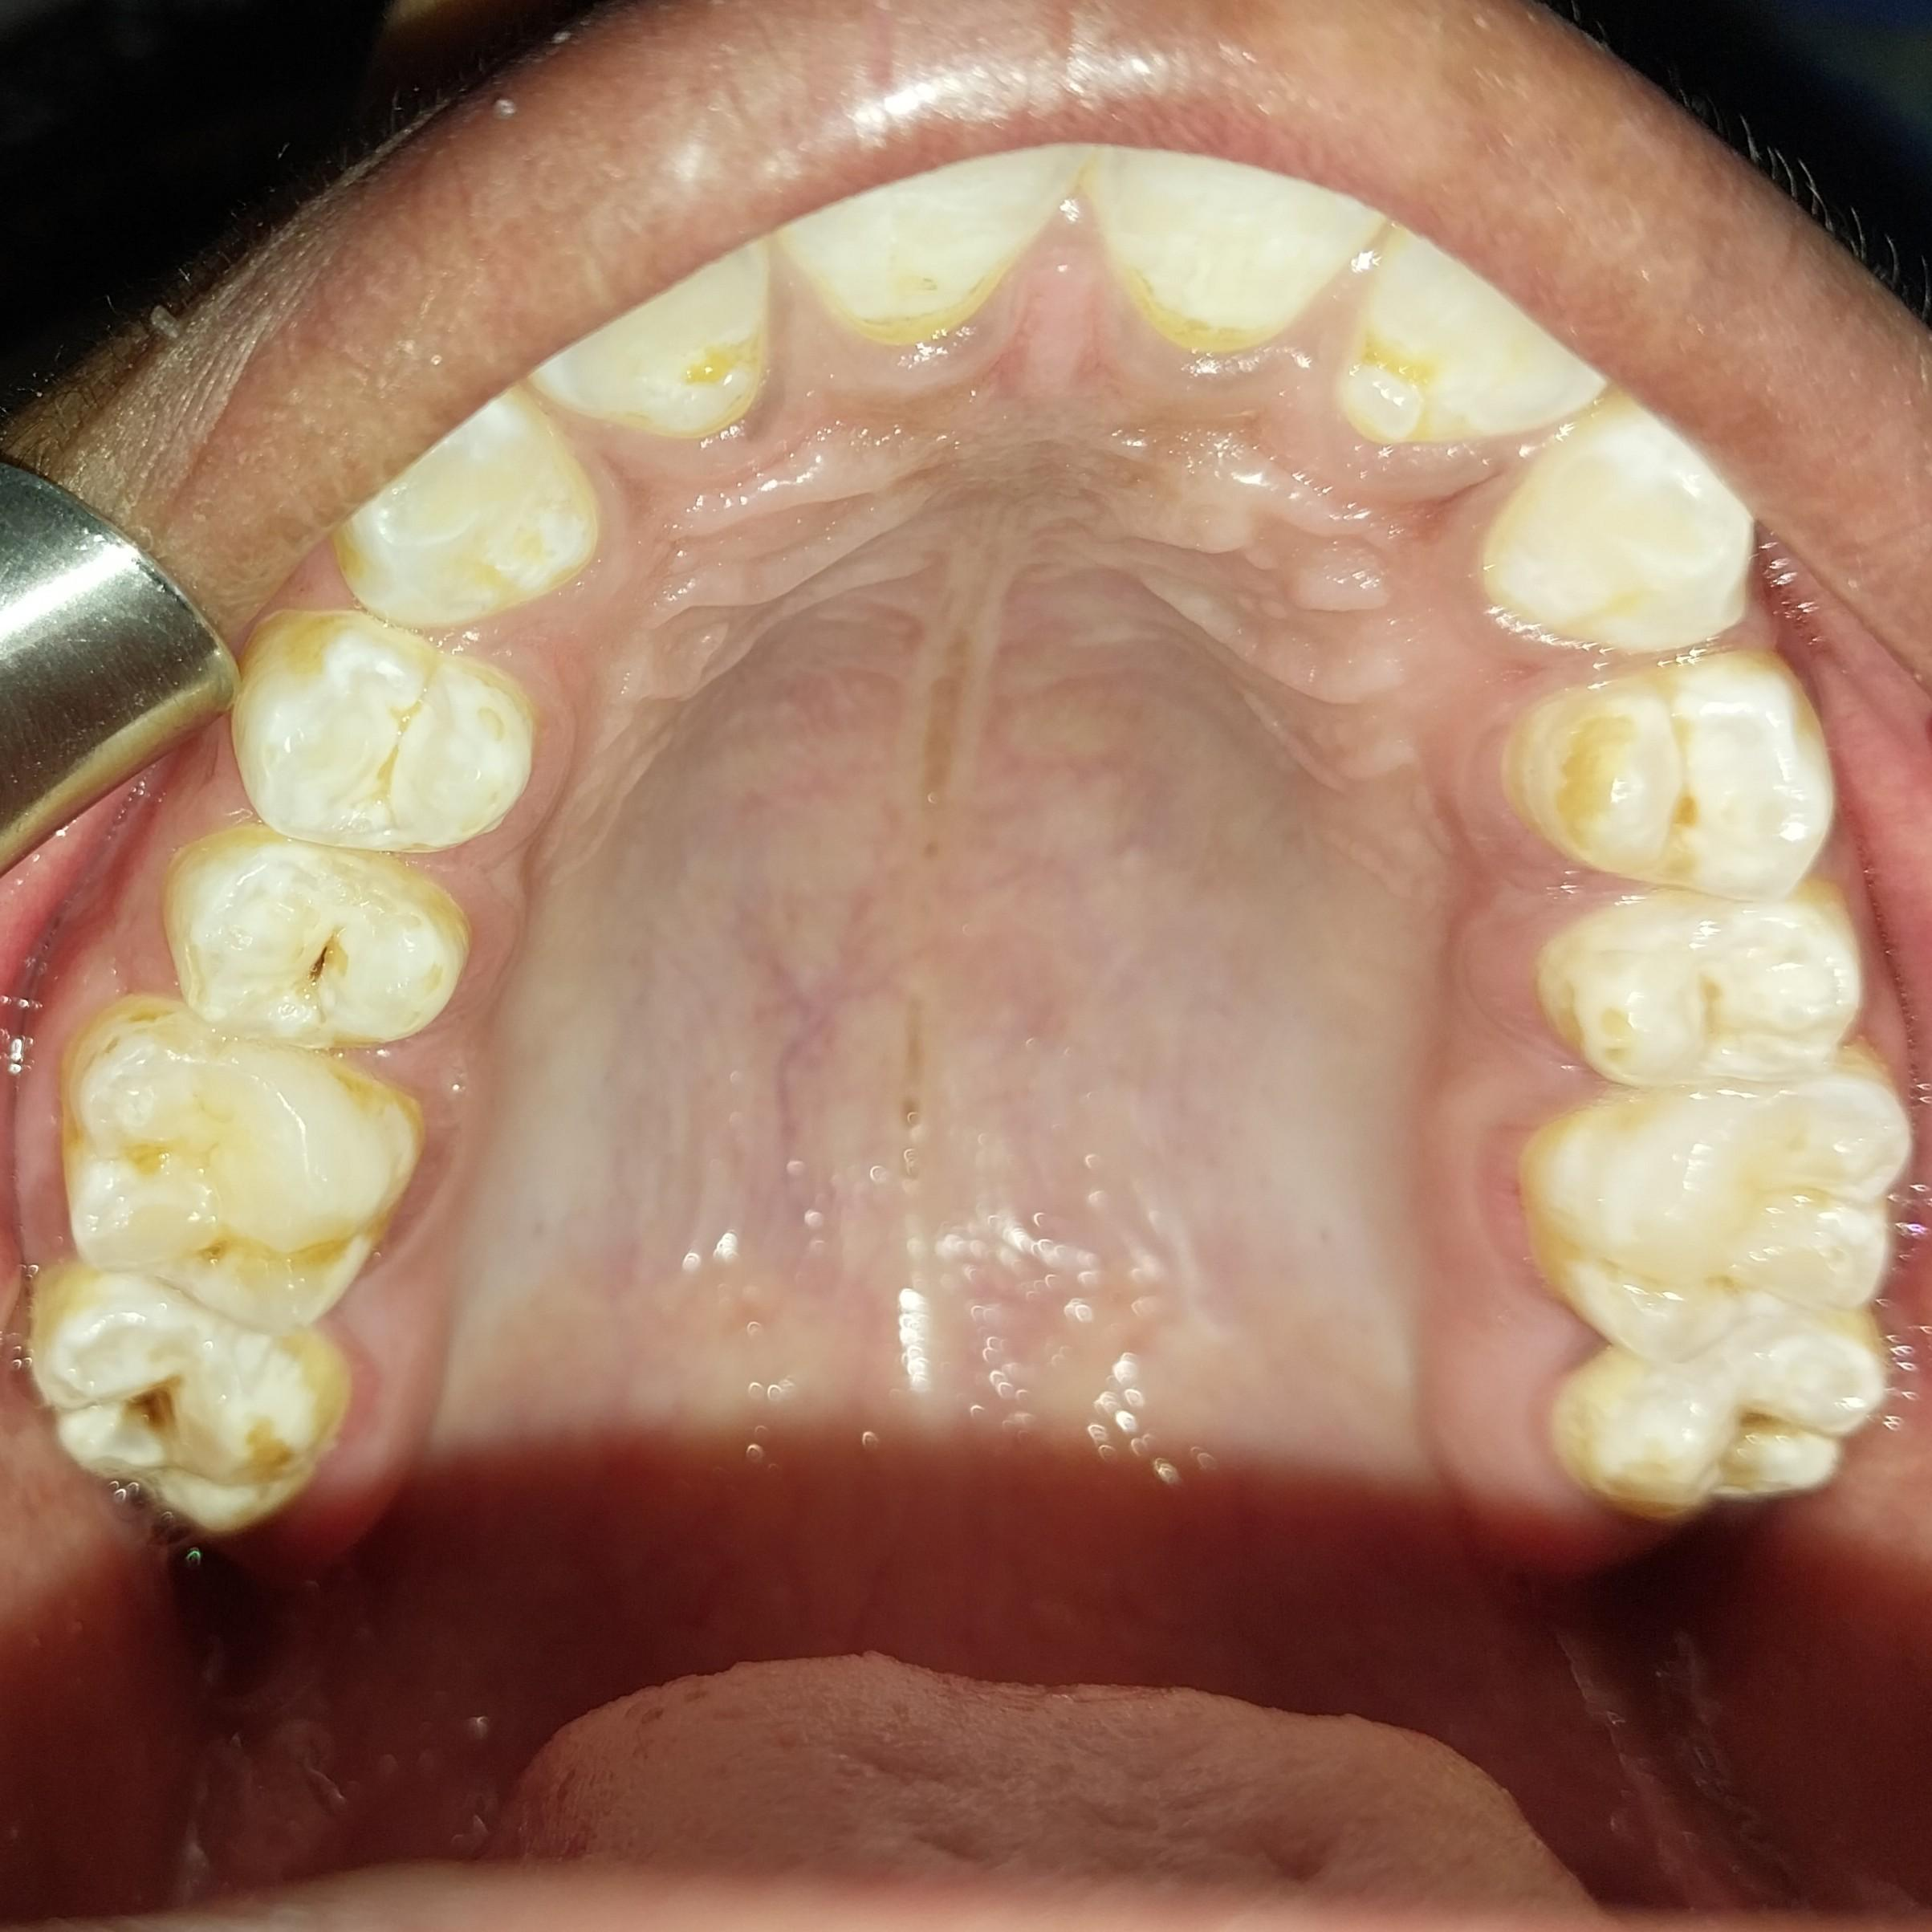D: (16, 1253, 357, 1534), (157, 832, 467, 1056), (1571, 1317, 1889, 1521)
